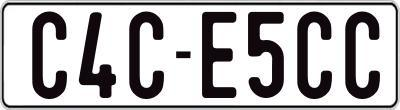4: (79, 9, 119, 100)
5: (247, 10, 287, 100)
C: (126, 10, 167, 97), (32, 11, 70, 102), (295, 12, 332, 103), (342, 9, 377, 100)
E: (199, 11, 238, 100)
